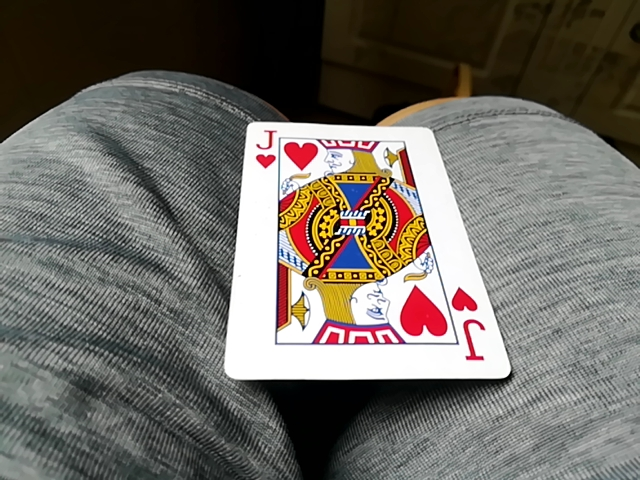hx j: (233, 120, 504, 385)
